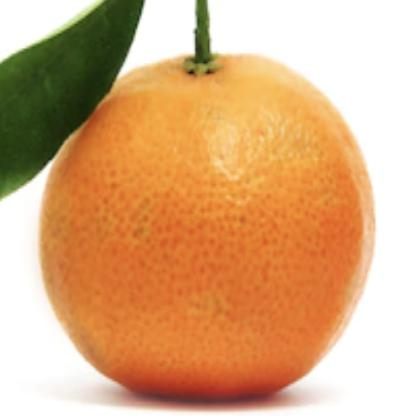fresh: (35, 41, 373, 403)
